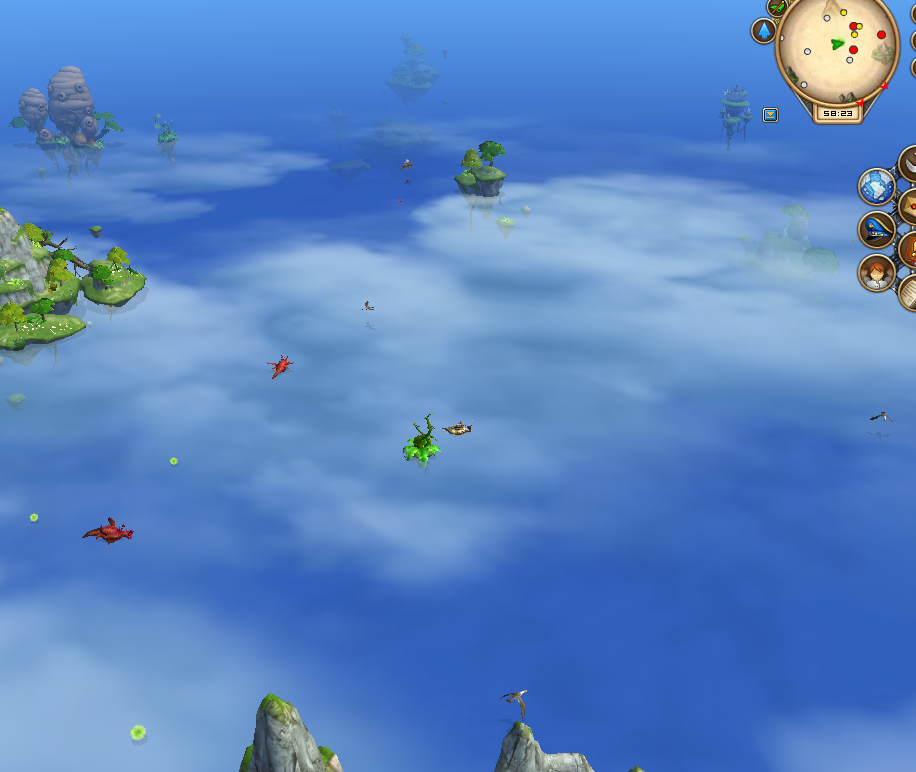dandelion-full: (151, 109, 180, 158)
fluff: (127, 721, 150, 748), (164, 451, 183, 470), (28, 509, 43, 528)
